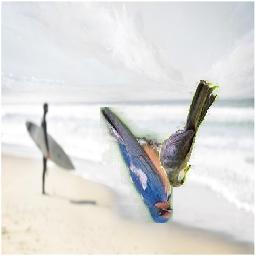Cuckoo: (160, 81, 221, 188)
Swallow: (101, 107, 174, 223)
